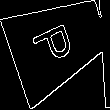P_E: (34, 17, 84, 70)
